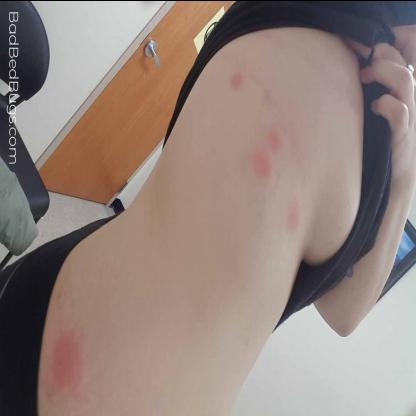Bed Bug: (46, 322, 88, 405), (248, 122, 286, 186), (226, 64, 254, 100), (287, 198, 303, 230)
